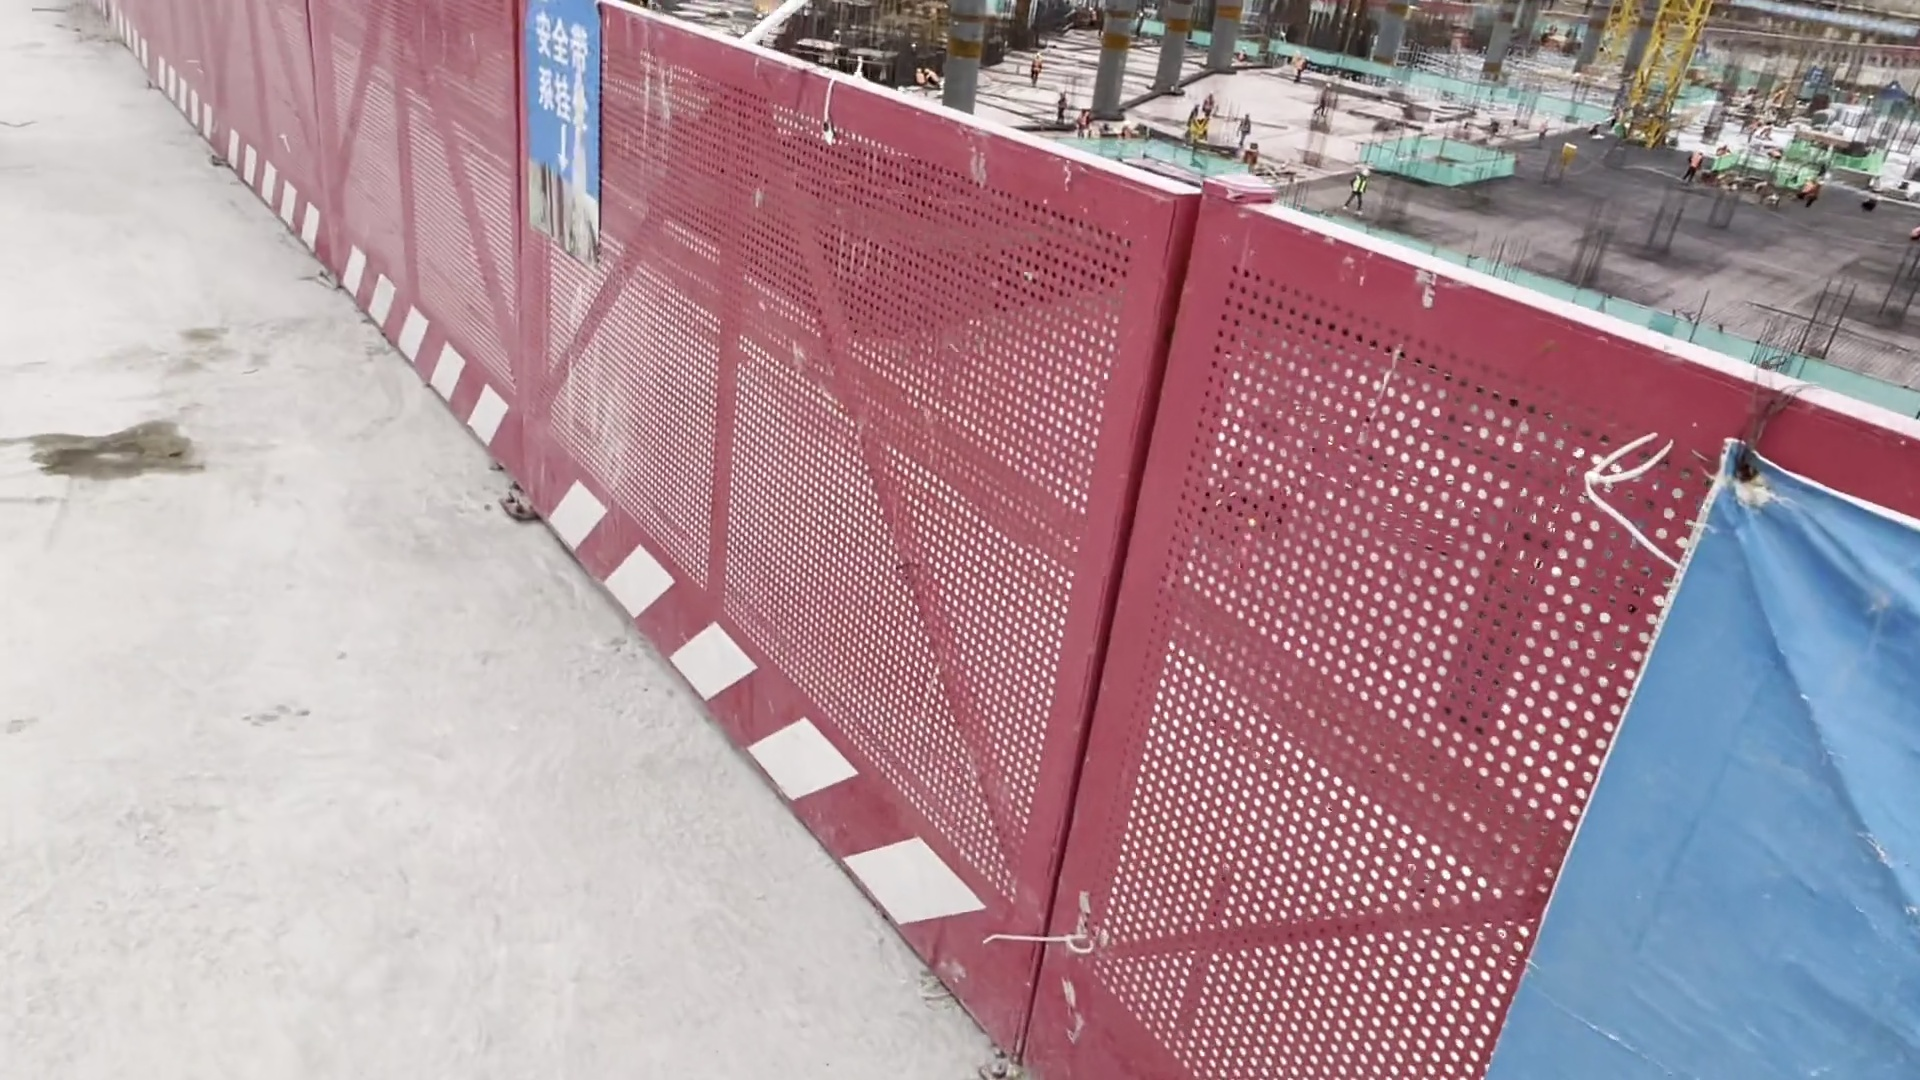fence: (508, 11, 1201, 1079), (1208, 178, 1920, 1075), (318, 1, 501, 465), (225, 1, 315, 245), (137, 3, 223, 153)
slogan: (513, 26, 608, 189)
